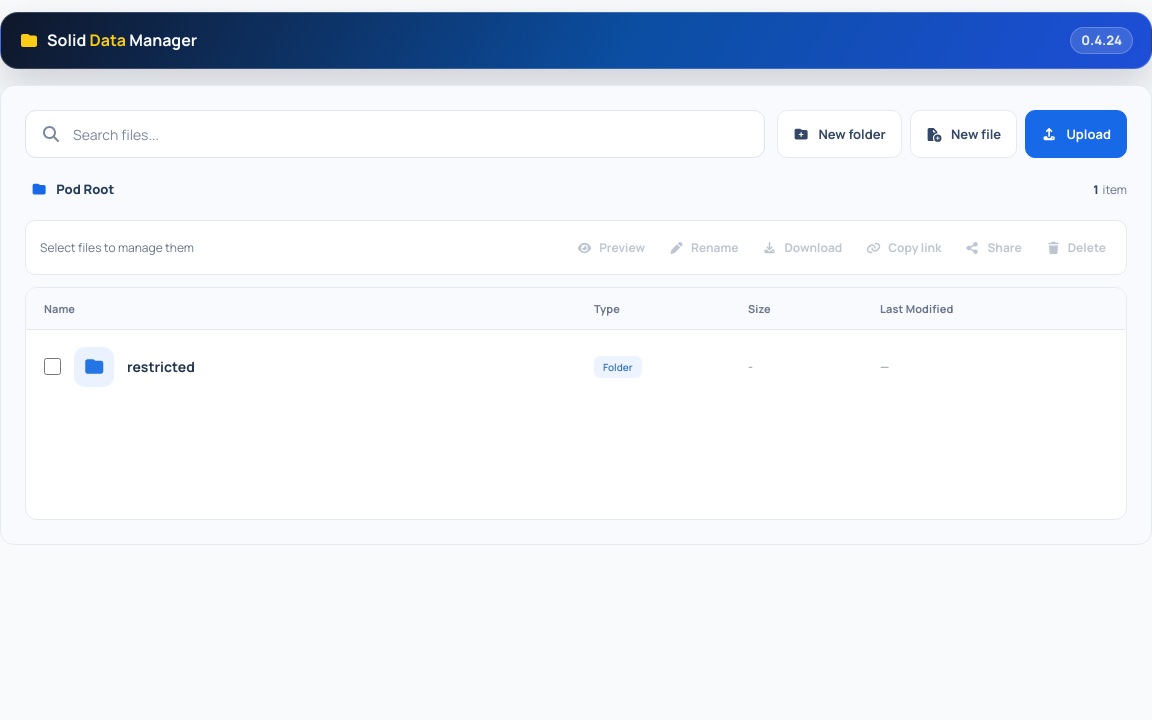
Scenario: refuses to delete an ldp:contains target from another origin
This screenshot has width=1152, height=720.
Click the text "restricted" at [576, 367], box left=26, top=330, right=1126, bottom=404
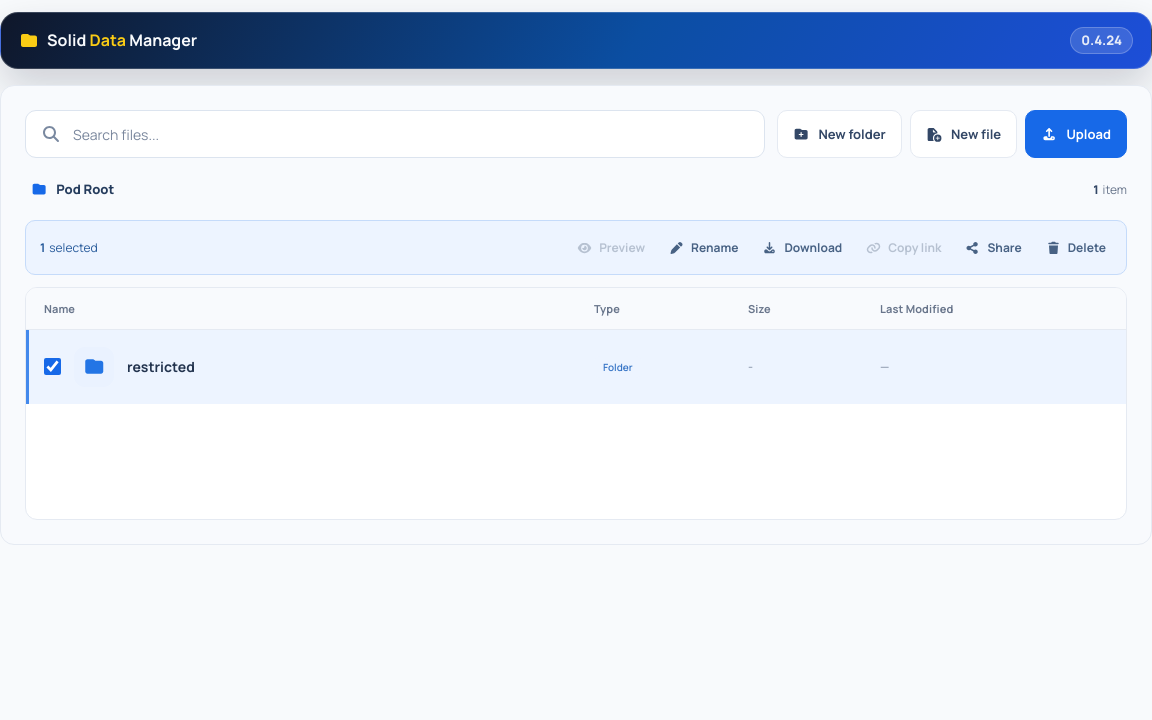
Click the button titled "Delete" at [1076, 248], box left=1036, top=228, right=1116, bottom=268
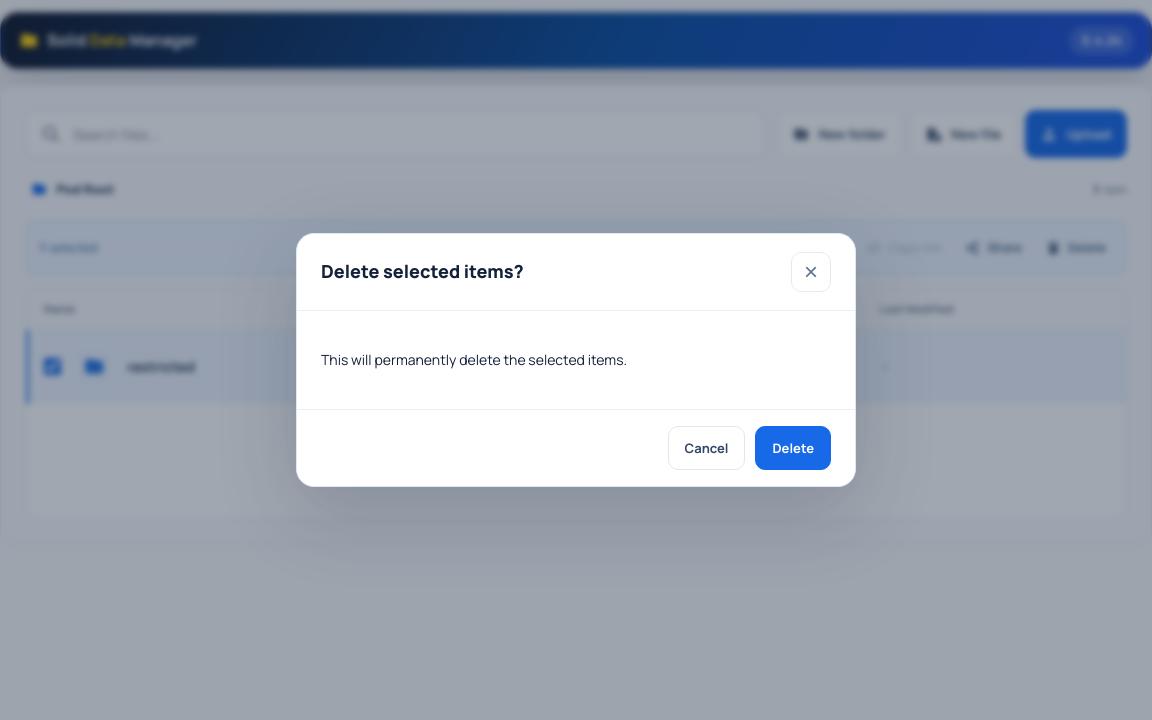
Click the button "Delete" at [793, 448], box left=756, top=426, right=831, bottom=470
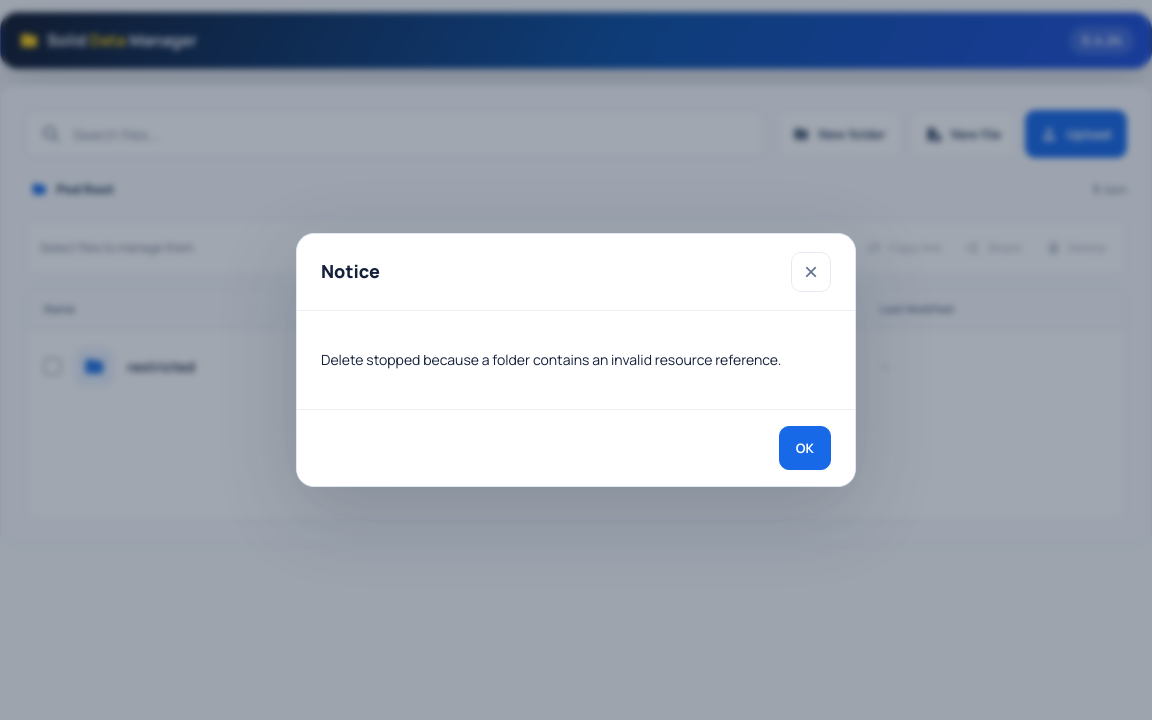
Expected: the text "Delete stopped because a folder contains an invalid resource reference." is shown, left=321, top=349, right=831, bottom=371
